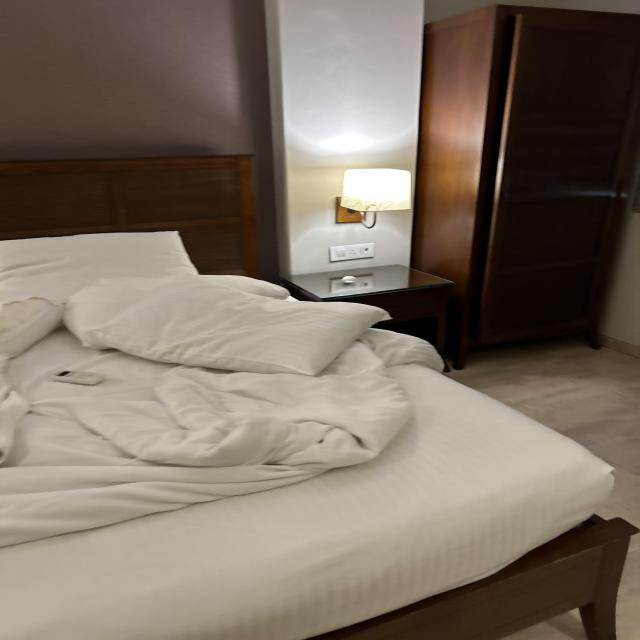mess: (6, 258, 316, 640), (188, 318, 640, 562)
